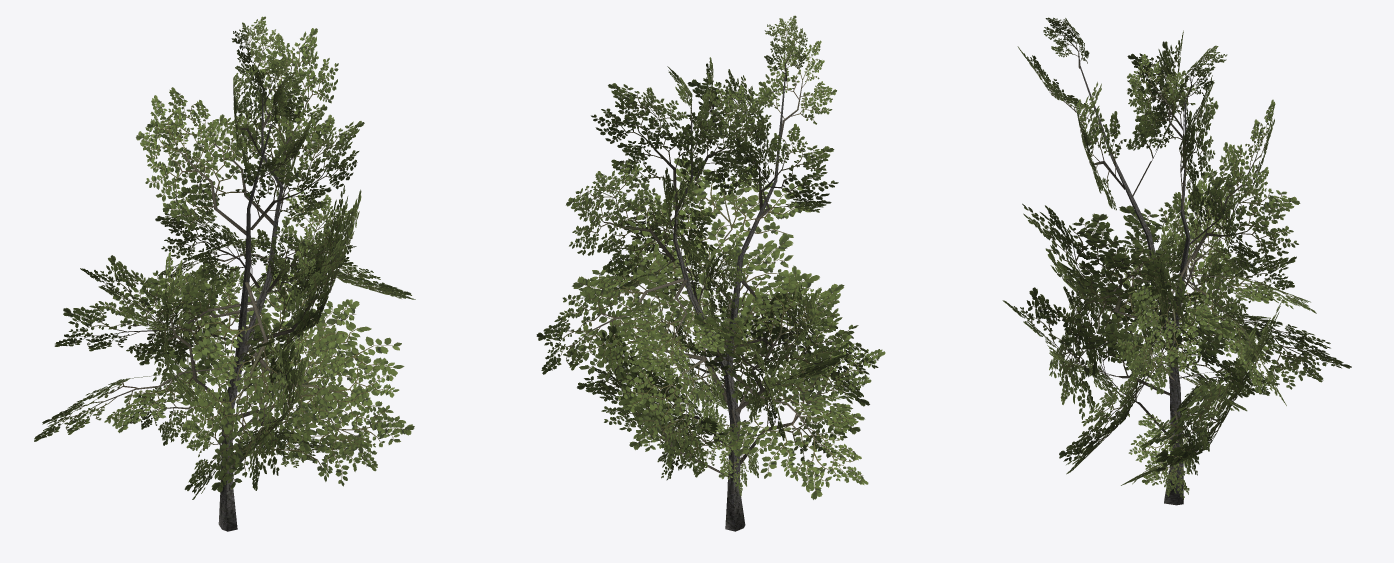
File: tree10.fbx
3 renders of one model, left to right at view 1: azimuth 30°, elevation 25°; view 2: azimuth 150°, elevation 25°; view 3: azimuth 270°, elevation 25°, orthographic. The views are drawn at different scales.
Visible parts, largest first — view 1: Tree-01-4; view 2: Tree-01-4; view 3: Tree-01-4.
Part boxes in pixels (<box>): Tree-01-4: <box>34,16,415,531</box>; Tree-01-4: <box>536,15,885,531</box>; Tree-01-4: <box>1002,17,1351,505</box>.
Bounding box in the file's own units: 472 × 541 × 402.
